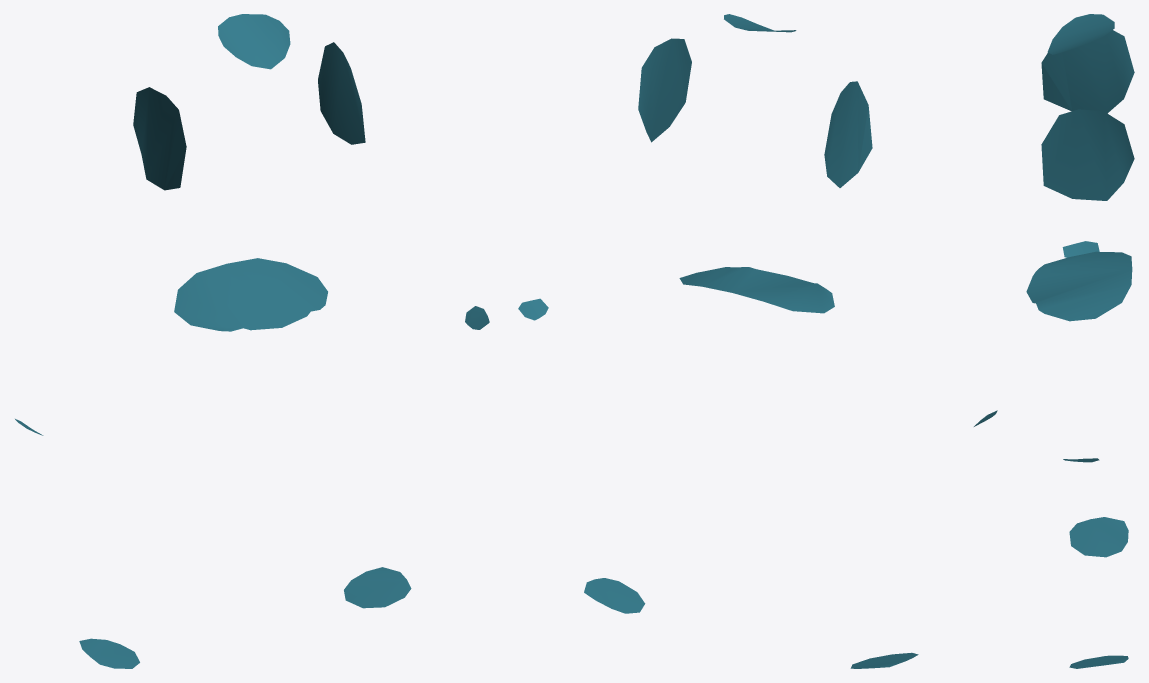
Rendered from ge_hom_interfaces_pantabottes.max.fbx.
3 views of the same model, side by side, from view 1: azimuth 30°, elevation 25°; view 2: azimuth 150°, elevation 25°; view 3: azimuth 270°, elevation 25° (orthographic). The views are drawn at different scales.
Parts seen in each view (by area): view 1: Shape01, Shape02, Shape03, FY_HOM_interfaces_new, Shape07, Shape06; view 2: Shape01, Shape03, Shape02, Shape07; view 3: Shape03, Shape01, Shape02, Shape06, FY_HOM_interfaces_new, Shape07, Shape05.
Boxes of the visible parts, x1,y1,x2,y2 form: Shape01: (174,258,327,331); Shape02: (133,87,186,190); Shape03: (318,42,365,144); FY_HOM_interfaces_new: (218,14,290,69); Shape07: (344,567,411,608); Shape06: (79,638,139,668); Shape01: (679,267,834,313); Shape03: (638,38,691,142); Shape02: (824,81,872,187); Shape07: (584,578,645,613); Shape03: (1041,109,1134,200); Shape01: (1026,251,1132,321); Shape02: (1041,30,1134,113); Shape06: (1069,517,1128,557); FY_HOM_interfaces_new: (1047,14,1114,54); Shape07: (1069,655,1128,668); Shape05: (1062,241,1099,257).
Size of the model in its own units: 0.868 by 1.08 by 0.1825.
